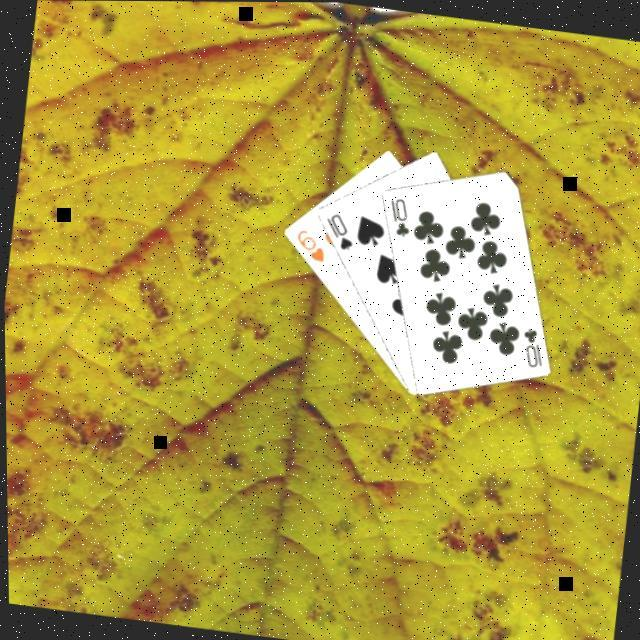10C: (516, 324, 550, 372), (383, 194, 417, 241)
10S: (319, 209, 360, 255)
6H: (291, 227, 330, 267)
